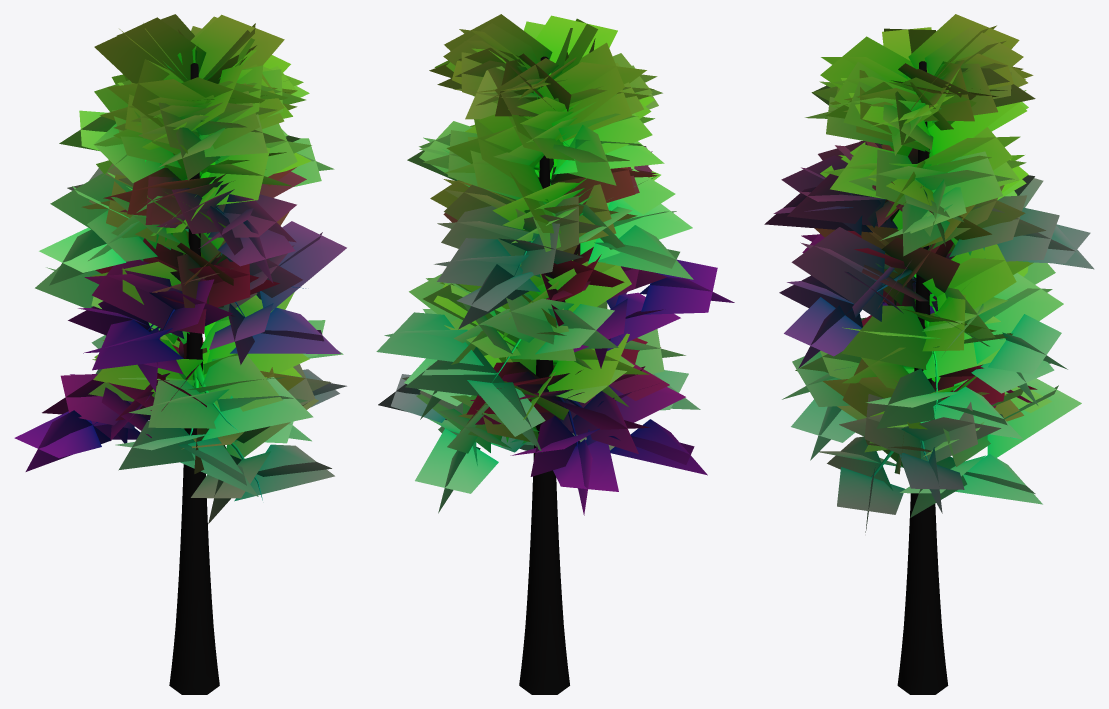
The model's file is M_Pine_1_1.fbx.
3 views of the same model, side by side, from view 1: azimuth 30°, elevation 25°; view 2: azimuth 150°, elevation 25°; view 3: azimuth 270°, elevation 25° (orthographic).
Parts seen in each view (by area): view 1: Tree_1; view 2: Tree_1; view 3: Tree_1.
Part boxes in pixels (left/top/right/bottom): Tree_1: left=14, top=14, right=346, bottom=694; Tree_1: left=376, top=14, right=734, bottom=694; Tree_1: left=764, top=14, right=1094, bottom=694.
Bounding box in the file's own units: 1353 × 2613 × 1203.
